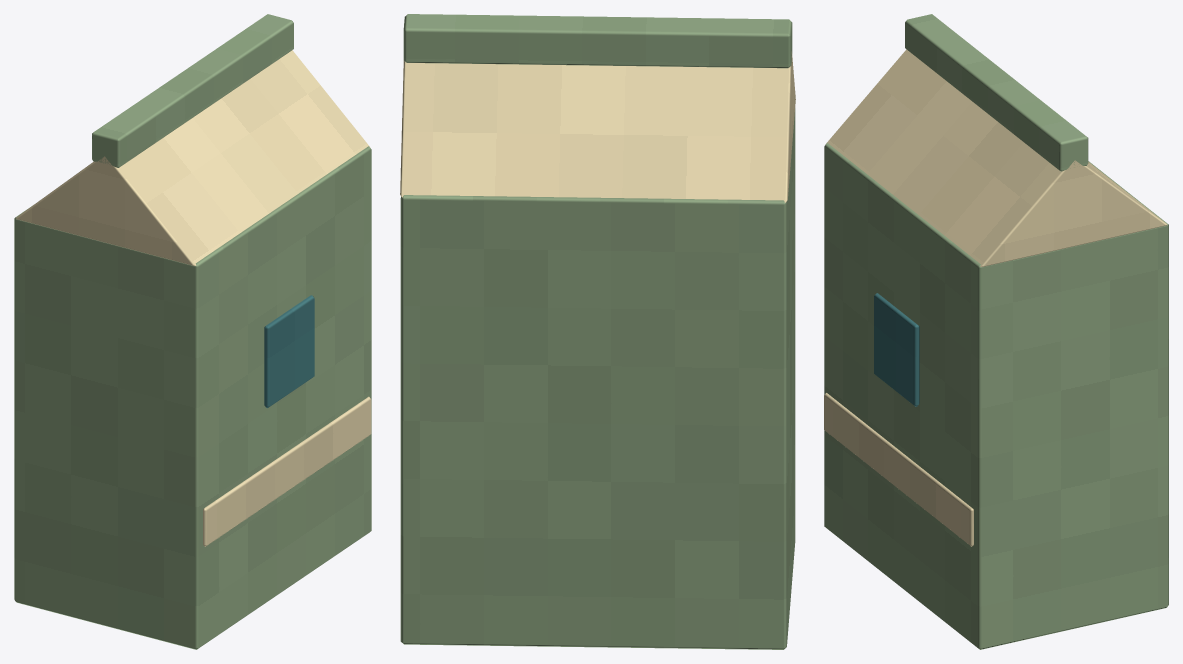
The model's file is SageWashBox.glb.
3 views of the same model, side by side, from view 1: azimuth 30°, elevation 25°; view 2: azimuth 150°, elevation 25°; view 3: azimuth 270°, elevation 25° (orthographic). The views are drawn at different scales.
Parts seen in each view (by area): view 1: SageWashBox.Carton, SageWashBox.Gable-fold, SageWashBox.Top-seam, SageWashBox.Band, SageWashBox.Badge; view 2: SageWashBox.Carton, SageWashBox.Gable-fold, SageWashBox.Top-seam; view 3: SageWashBox.Carton, SageWashBox.Gable-fold, SageWashBox.Top-seam, SageWashBox.Band, SageWashBox.Badge.
Part boxes in pixels (x1,y1,x2,y2): SageWashBox.Carton: (14,146,371,649); SageWashBox.Gable-fold: (16,50,370,265); SageWashBox.Top-seam: (92,14,293,167); SageWashBox.Band: (203,396,371,546); SageWashBox.Badge: (264,295,314,408); SageWashBox.Carton: (400,108,795,649); SageWashBox.Gable-fold: (400,51,795,202); SageWashBox.Top-seam: (403,14,792,68); SageWashBox.Carton: (824,143,1168,649); SageWashBox.Gable-fold: (826,49,1167,266); SageWashBox.Top-seam: (905,14,1088,171); SageWashBox.Band: (824,393,973,546); SageWashBox.Badge: (874,293,919,406).
Bounding box in the file's own units: 0.2942 × 0.4063 × 0.259.
3 materials, 3 textured.
